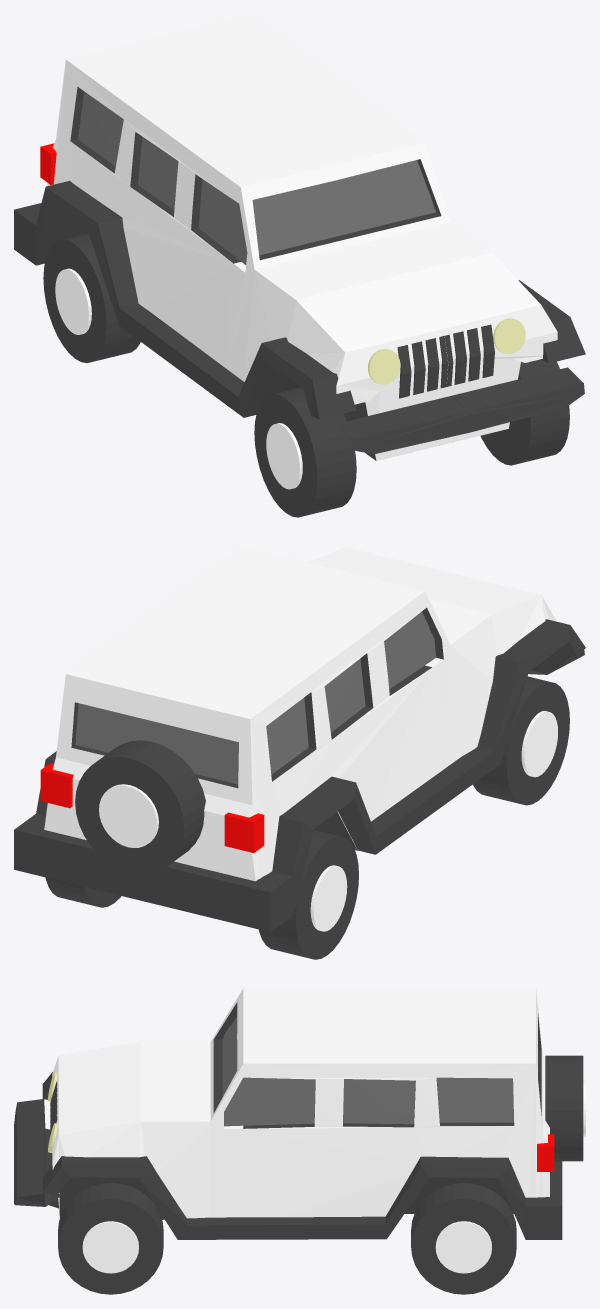
The model's file is car_jeep_wrangler_white.glb.
3 renders of one model, top to bottom at view 1: azimuth 30°, elevation 25°; view 2: azimuth 150°, elevation 25°; view 3: azimuth 270°, elevation 25°, orthographic. The views are drawn at different scales.
Parts seen in each view (by area): view 1: Object_4, Object_7, Object_28, Object_19; view 2: Object_4, Object_7, Object_28, Object_23; view 3: Object_4, Object_7, Object_28, Object_23.
Part boxes in pixels (x1=…): Object_4: x1=47, y1=14, x2=557, y2=489; Object_7: x1=14, y1=87, x2=585, y2=517; Object_28: x1=78, y1=91, x2=435, y2=264; Object_19: x1=368, y1=318, x2=525, y2=384; Object_4: x1=44, y1=546, x2=557, y2=931; Object_7: x1=14, y1=607, x2=585, y2=959; Object_28: x1=75, y1=611, x2=436, y2=784; Object_23: x1=40, y1=763, x2=264, y2=852; Object_4: x1=52, y1=988, x2=585, y2=1273; Object_7: x1=14, y1=1002, x2=583, y2=1294; Object_28: x1=222, y1=1016, x2=513, y2=1126; Object_23: x1=537, y1=1134, x2=554, y2=1171.
Bounding box in the file's own units: 3.04 × 2.83 × 6.76.
